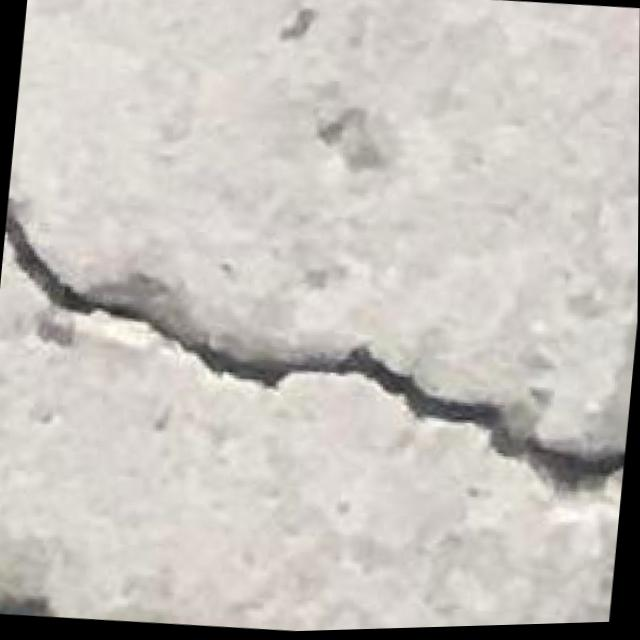Crack: (0, 158, 639, 529)
